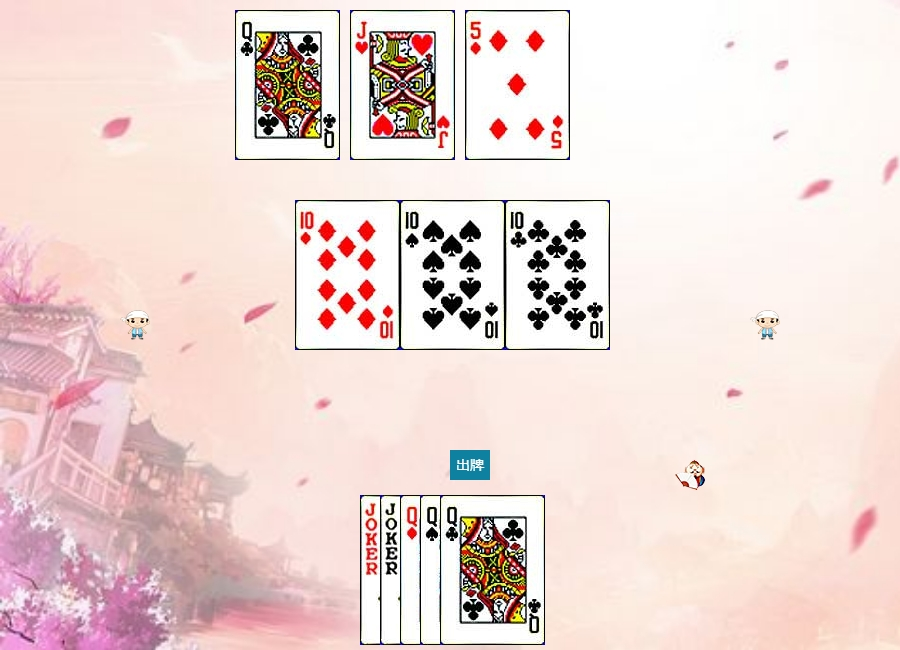10~1: (295, 200, 400, 350)
10~2: (505, 200, 610, 350)
10~4: (400, 200, 505, 350)
11~3: (350, 10, 455, 160)
12~1: (400, 495, 505, 645)
12~2: (235, 10, 340, 160), (440, 495, 545, 645)
12~4: (420, 495, 525, 645)
17~3: (380, 495, 485, 645)
18~4: (360, 495, 465, 645)
5~1: (465, 10, 570, 160)
